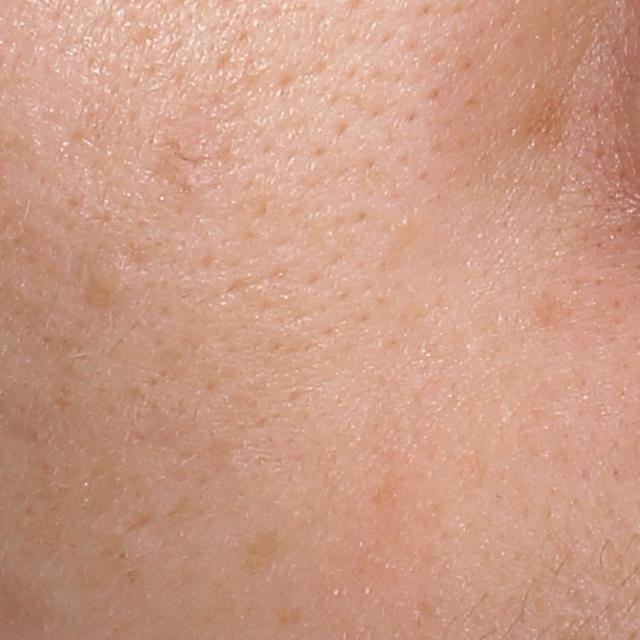atrophic_scar: (120, 510, 157, 538)
